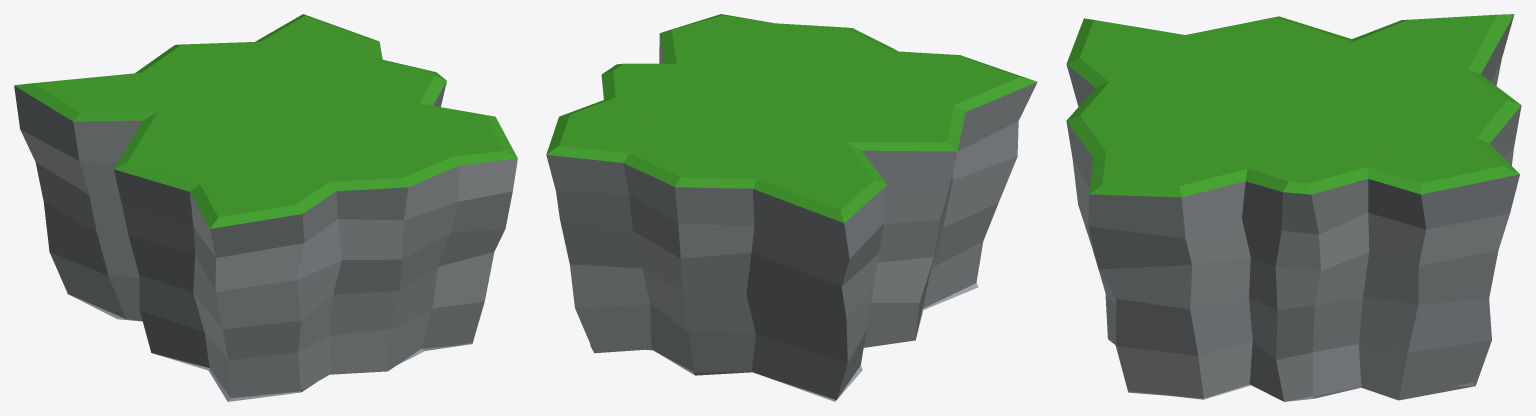
File: cliff1.fbx
3 views of the same model, side by side, from view 1: azimuth 30°, elevation 25°; view 2: azimuth 150°, elevation 25°; view 3: azimuth 270°, elevation 25° (orthographic). The views are drawn at different scales.
Visible parts, largest first — view 1: Plane; view 2: Plane; view 3: Plane.
Boxes of the visible parts, x1,y1,x2,y2 form: Plane: (14, 14, 517, 401); Plane: (546, 14, 1037, 401); Plane: (1066, 14, 1521, 401).
Size of the model in its own units: 211 by 128 by 221.
Materials: 1 (1 with a texture image).
